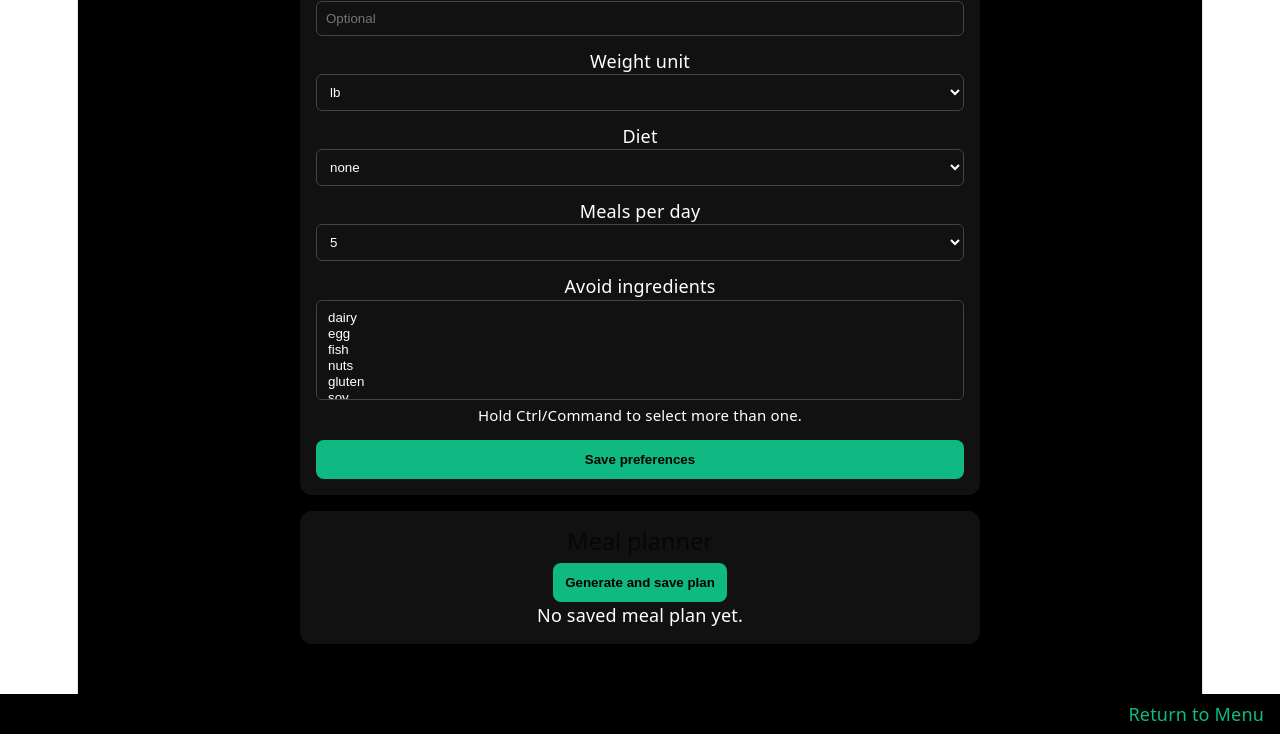
Test: NutritionPro › loads user settings and targets, saves preferences, and persists generated plans
The width and height of the screenshot is (1280, 734).
(page scrolled)
Click the button "Save preferences". click: (640, 459)
box: [316,440,964,479]
(page scrolled)
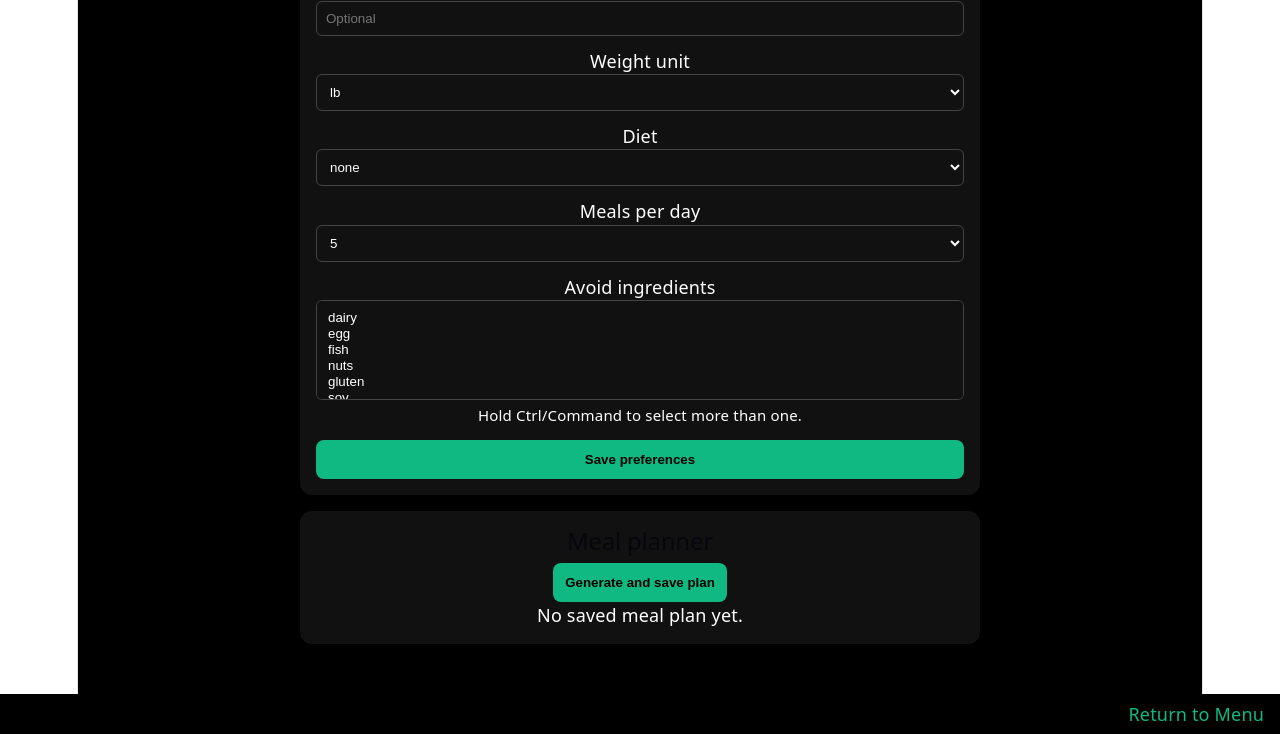
Click the button "Generate and save plan". click: (640, 583)
box: [553,563,727,602]
(page scrolled)
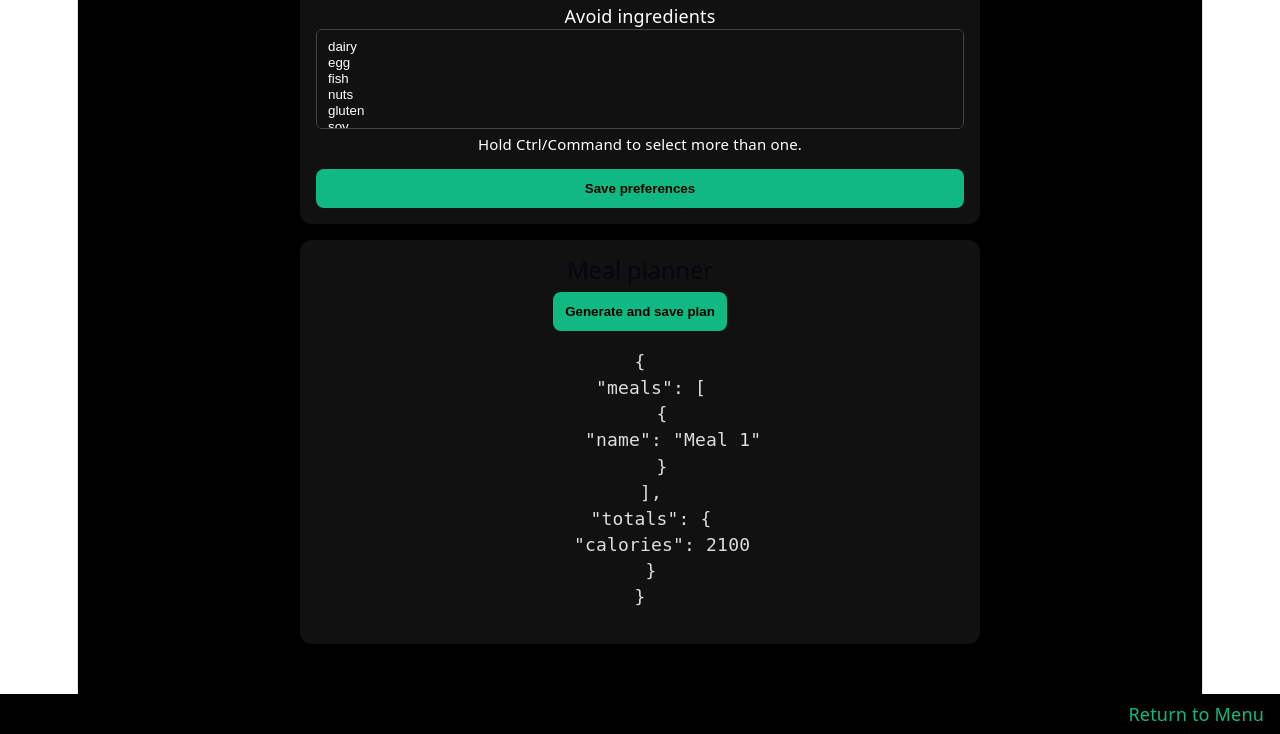
Expected: the text "Meal 1" is shown, [519,351,761,607]
